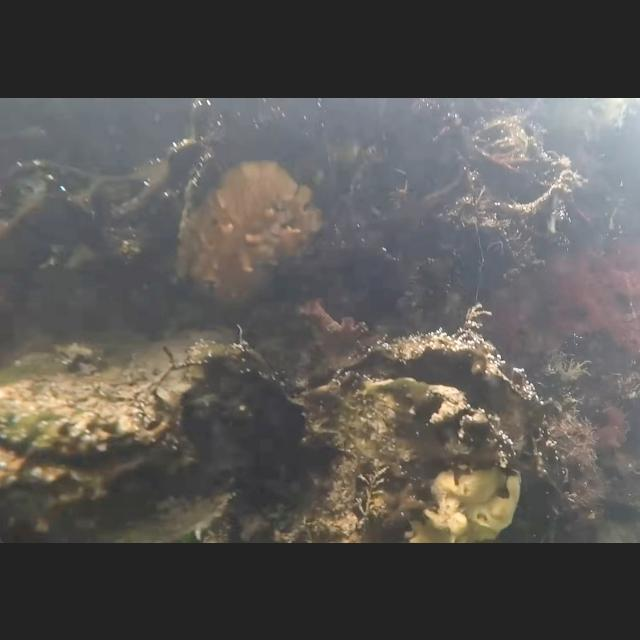Oyster-Closed: (176, 158, 322, 316)
Oyster-Open: (306, 328, 536, 542), (0, 328, 244, 484)
